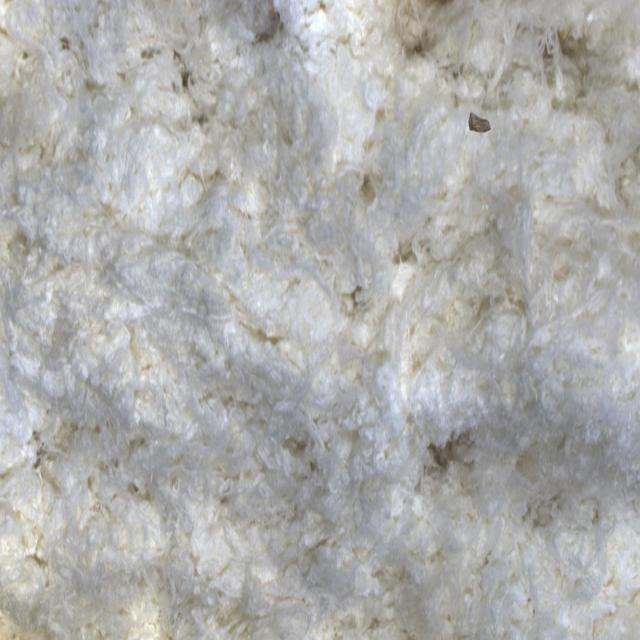dust: (454, 84, 504, 155)
